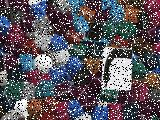Left: (101, 46, 132, 90)
